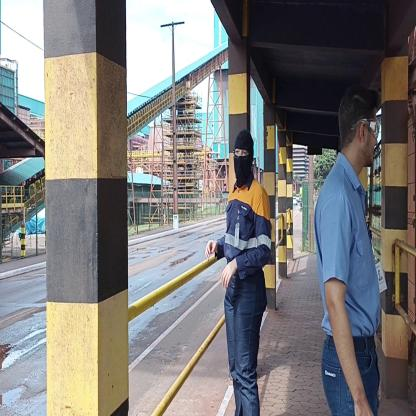Balaclava: (228, 126, 255, 186)
Operacional: (219, 187, 272, 274)
